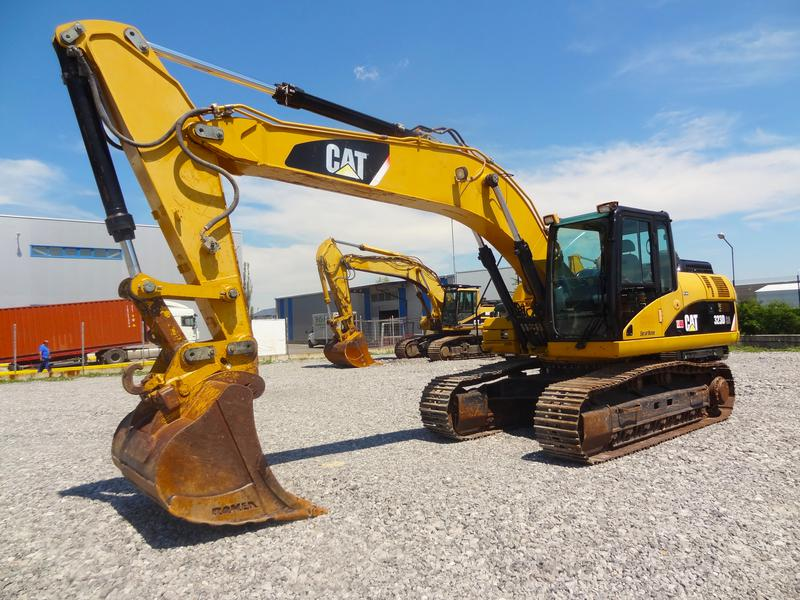shovel: (46, 18, 747, 537)
